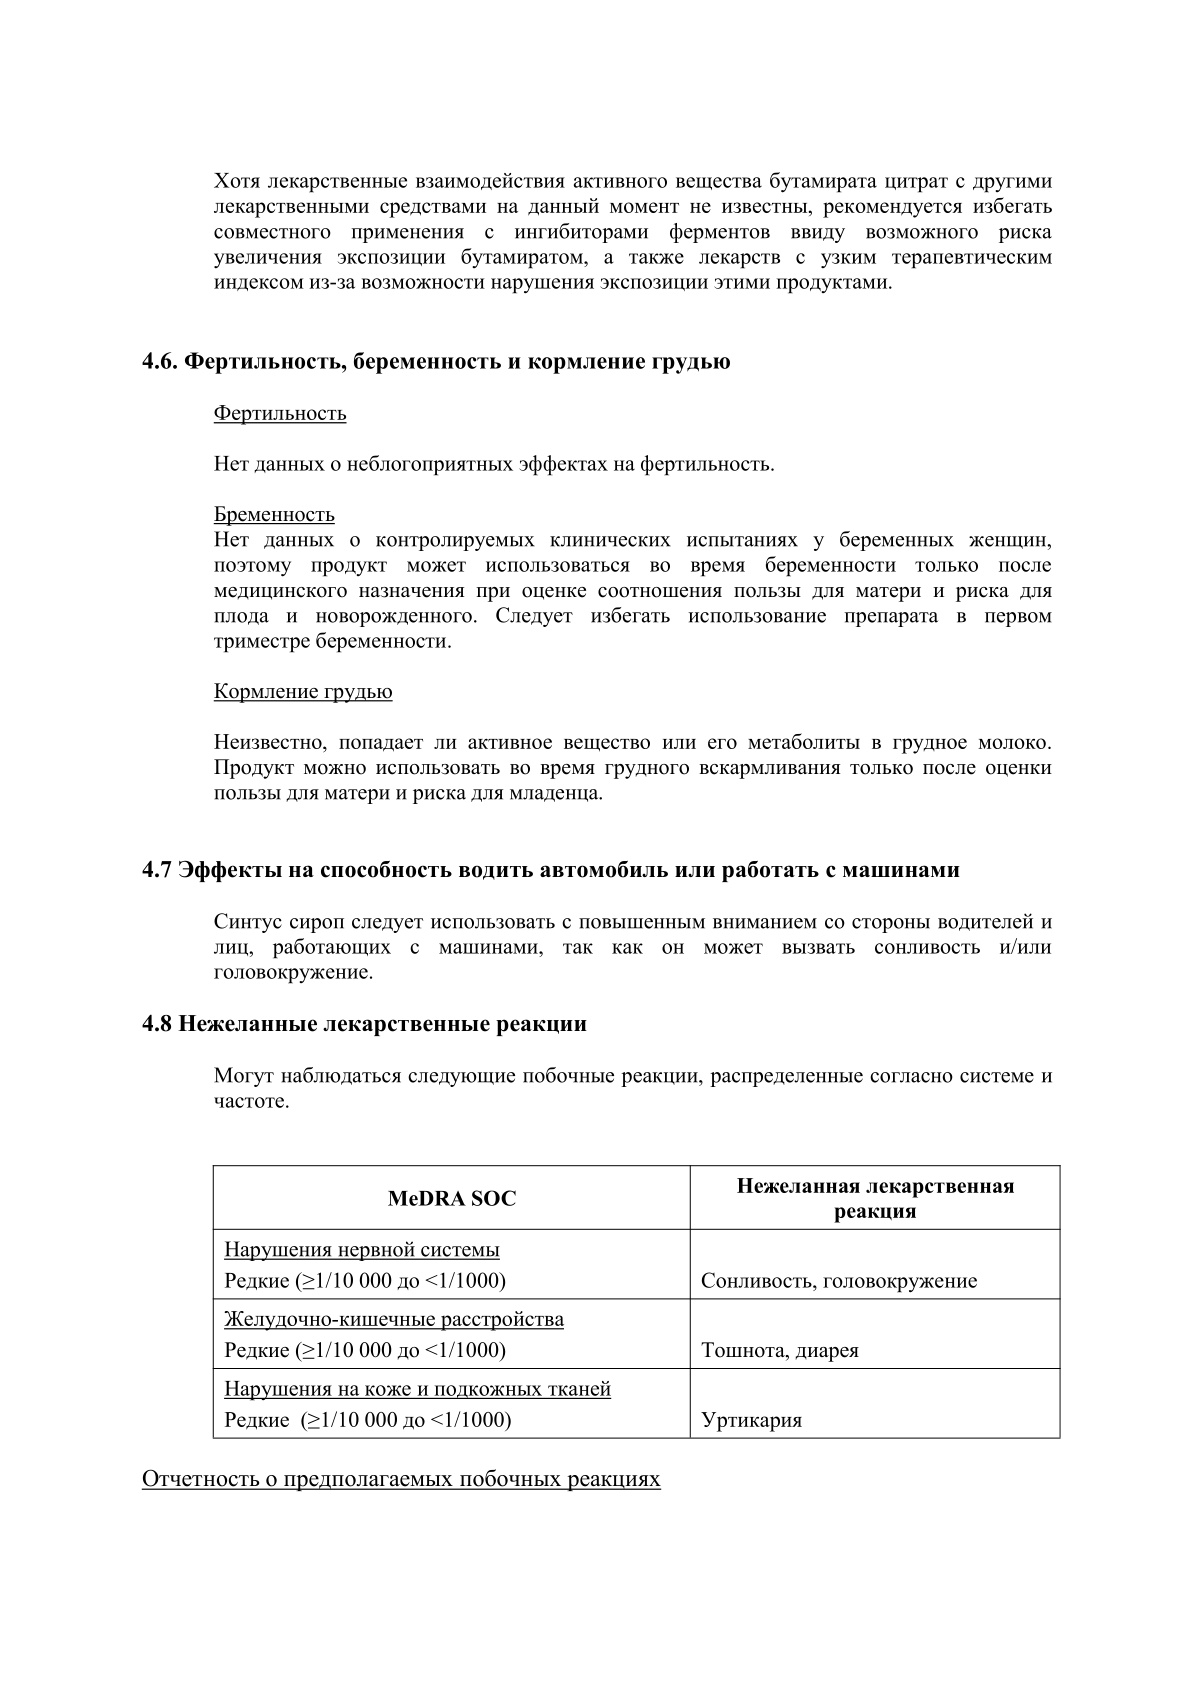full_lined: (211, 1163, 1061, 1439)
